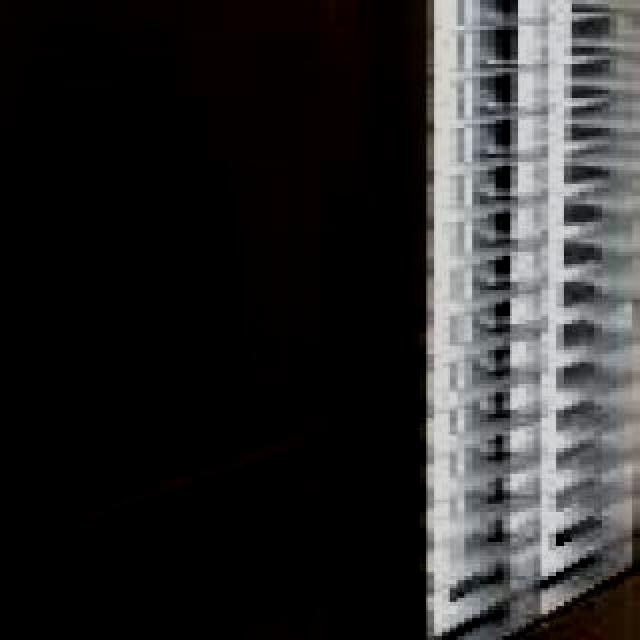fluorescent tube: (490, 0, 610, 620), (412, 0, 500, 628)
